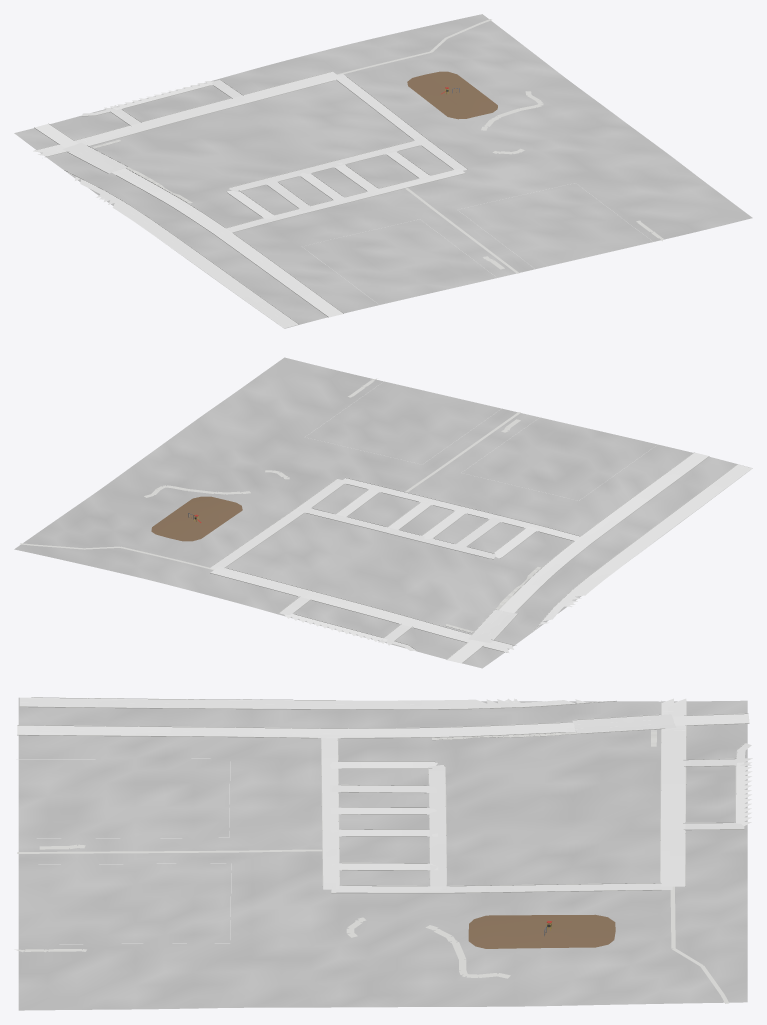
3 renders of one model, top to bottom at view 1: azimuth 30°, elevation 25°; view 2: azimuth 150°, elevation 25°; view 3: azimuth 270°, elevation 25°, orthographic. The views are drawn at different scales.
Parts seen in each view (by area): view 1: ground, concrete, asphalt, curb, detail, walk, mark_w; view 2: ground, concrete, asphalt, curb, detail, walk, mark_w; view 3: ground, concrete, asphalt, curb, detail, walk, mark_w, mark_y.
Boxes of the visible parts, box(x1,y1,x2,y2) form: ground: box(14, 14, 752, 328); concrete: box(33, 71, 467, 232); asphalt: box(35, 123, 343, 328); curb: box(34, 71, 467, 324); detail: box(407, 71, 497, 119); walk: box(92, 19, 663, 273); mark_w: box(47, 124, 652, 327); ground: box(14, 357, 752, 668); concrete: box(210, 469, 751, 653); asphalt: box(447, 452, 751, 663); curb: box(210, 452, 745, 662); detail: box(151, 496, 242, 541); walk: box(20, 378, 540, 632); mark_w: box(305, 381, 751, 659); ground: box(18, 697, 747, 1010); concrete: box(321, 698, 752, 892); asphalt: box(17, 697, 749, 738); curb: box(17, 697, 749, 893); detail: box(468, 914, 615, 948); walk: box(14, 730, 728, 1003); mark_w: box(16, 698, 747, 944); mark_y: box(17, 701, 746, 729).
Size of the model in its own units: 253 by 6.48 by 253.
